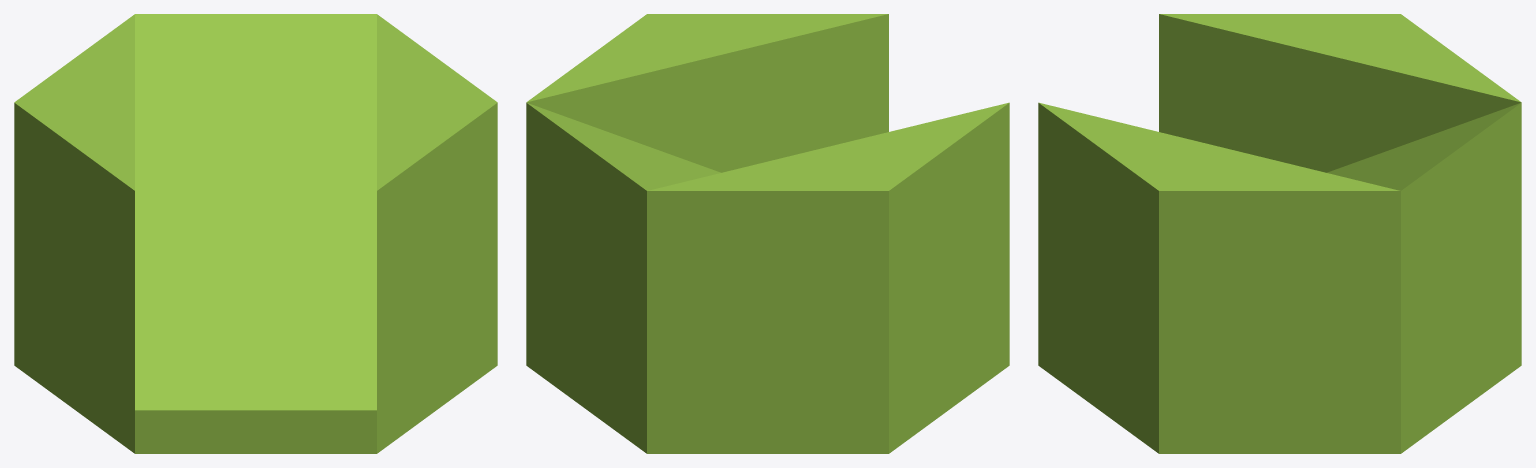
3 renders of one model, left to right at view 1: azimuth 30°, elevation 25°; view 2: azimuth 150°, elevation 25°; view 3: azimuth 270°, elevation 25°, orthographic.
Visible parts, largest first — view 1: VaromaStairWeird; view 2: VaromaStairWeird; view 3: VaromaStairWeird.
Boxes of the visible parts, x1,y1,x2,y2 form: VaromaStairWeird: (14,14,497,453); VaromaStairWeird: (526,14,1009,453); VaromaStairWeird: (1038,14,1521,453).
Bounding box in the file's own units: 1.73 × 1.2 × 2.
Materials: 1 (1 with a texture image).
